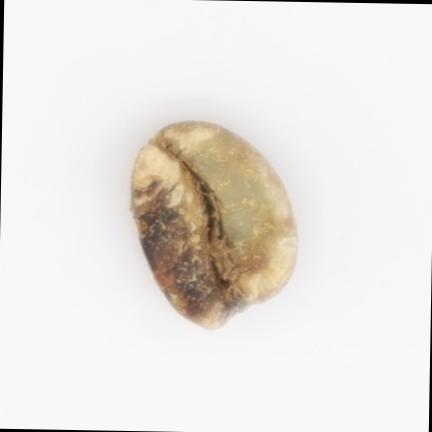partial-black: (131, 120, 297, 327)
